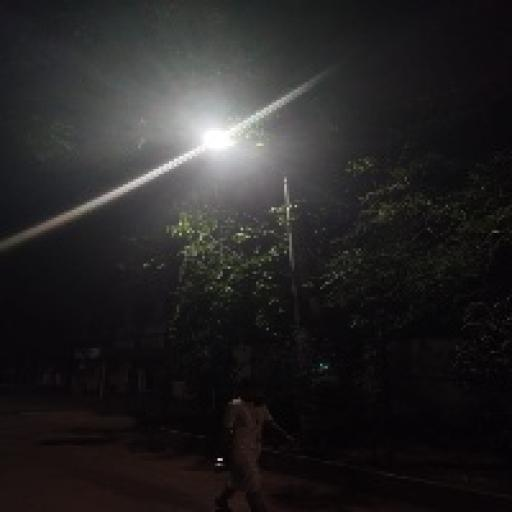Working: (190, 122, 241, 158)
